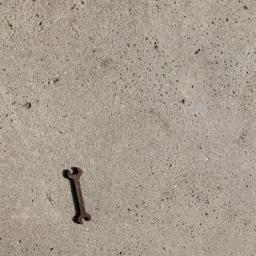FOD: (56, 163, 102, 228)
